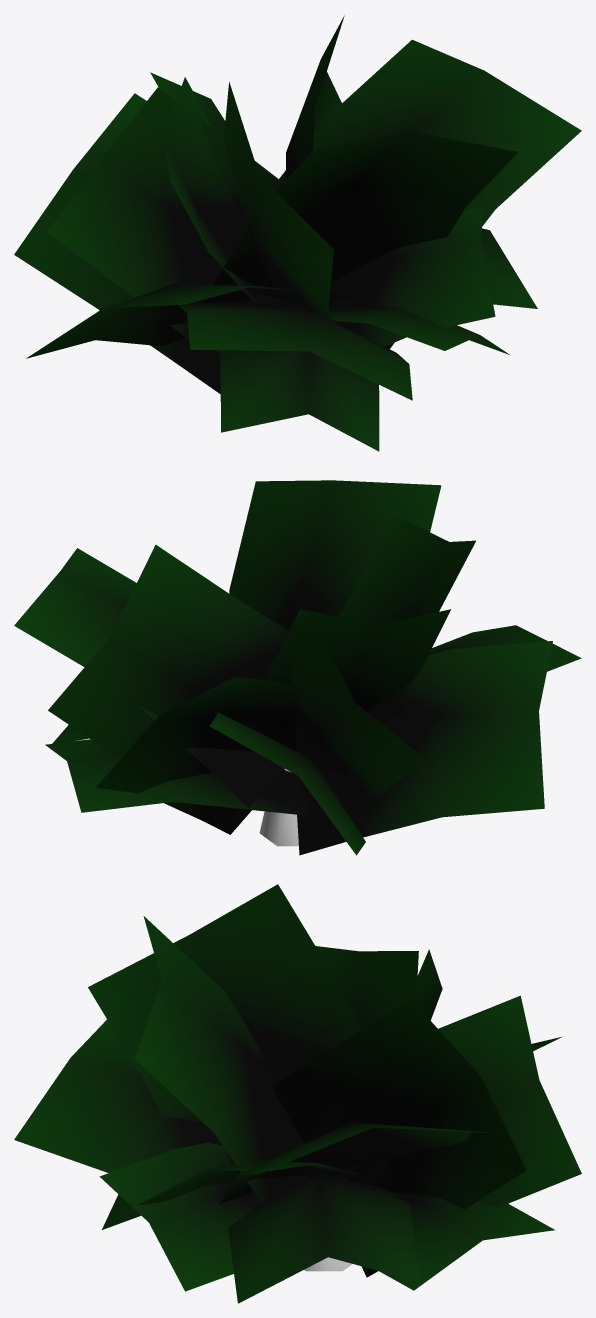
File: DwarfPalmettoPalm02_afsTREE_xlprl15_xef20_xmw06_xlb08_xlod01.fbx
The picture shows the model from 3 angles, top to bottom: view 1: azimuth 30°, elevation 25°; view 2: azimuth 150°, elevation 25°; view 3: azimuth 270°, elevation 25°; orthographic projection. The views are drawn at different scales.
Parts seen in each view (by area): view 1: leaf_xw02_xt01.002, leaf_xw02_xt01_xp02.002, leaf_xw02_xt01_xp01.002, leaf_xw01_xt01.005, leaf_xw01_xt00, leaf_xw01_xt01_xp07.002, leaf_xw02_xt01_xp06.002, leaf_xw00_xt01_xp08.002, leaf_xw01_xt01.004, leaf_xw01_xt01.003, leaf_xw00_xt01_xp09.002, leaf_xw01_xt01_xp10.002 (+2 smaller); view 2: leaf_xw01_xt01.003, leaf_xw01_xt01_xp10.002, leaf_xw02_xt01.002, leaf_xw01_xt00.001, leaf_xw02_xt01_xp01.002, leaf_xw02_xt01_xp02.002, leaf_xw01_xt01.004, leaf_xw02_xt01_xp06.002, leaf_xw01_xt00_xp08.002, leaf_xw00_xt01_xp08.002, leaf_xw01_xt01_xp07.002, trunk_xw00_xt00_xlp00.001; view 3: leaf_xw01_xt01_xp10.002, leaf_xw02_xt01_xp06.002, leaf_xw02_xt01.002, leaf_xw01_xt01_xp04, leaf_xw01_xt01_xp07.002, leaf_xw01_xt00.001, leaf_xw00_xt01_xp09.002, leaf_xw01_xt00_xp08.002, leaf_xw02_xt01_xp01.002, leaf_xw01_xt01.004, leaf_xw01_xt01.005, leaf_xw02_xt01_xp02.002 (+1 smaller).
Boxes of the visible parts, box(x1,y1,x2,y2) form: leaf_xw02_xt01.002: box(203, 131, 518, 303); leaf_xw02_xt01_xp02.002: box(47, 87, 282, 364); leaf_xw02_xt01_xp01.002: box(279, 39, 581, 349); leaf_xw01_xt01.005: box(329, 207, 495, 346); leaf_xw01_xt00: box(218, 350, 379, 451); leaf_xw01_xt01_xp07.002: box(178, 300, 412, 400); leaf_xw02_xt01_xp06.002: box(223, 81, 334, 323); leaf_xw00_xt01_xp08.002: box(14, 93, 220, 393); leaf_xw01_xt01.004: box(162, 77, 280, 304); leaf_xw01_xt01.003: box(26, 284, 366, 358); leaf_xw00_xt01_xp09.002: box(328, 300, 510, 355); leaf_xw01_xt01_xp10.002: box(286, 15, 344, 178); leaf_xw01_xt01.003: box(297, 641, 552, 855); leaf_xw01_xt01_xp10.002: box(48, 544, 288, 828); leaf_xw02_xt01.002: box(229, 480, 441, 722); leaf_xw01_xt00.001: box(96, 676, 300, 834); leaf_xw02_xt01_xp01.002: box(14, 548, 283, 808); leaf_xw02_xt01_xp02.002: box(263, 626, 425, 798); leaf_xw01_xt01.004: box(262, 609, 450, 711); leaf_xw02_xt01_xp06.002: box(245, 514, 475, 737); leaf_xw01_xt00_xp08.002: box(45, 739, 309, 815); leaf_xw00_xt01_xp08.002: box(209, 712, 365, 855); leaf_xw01_xt01_xp07.002: box(315, 625, 581, 788); trunk_xw00_xt00_xlp00.001: box(259, 769, 298, 846); leaf_xw01_xt01_xp10.002: box(271, 999, 526, 1209); leaf_xw02_xt01_xp06.002: box(88, 884, 361, 1122); leaf_xw02_xt01.002: box(135, 916, 310, 1206); leaf_xw01_xt01_xp04: box(228, 1173, 419, 1303); leaf_xw01_xt01_xp07.002: box(14, 1019, 222, 1172); leaf_xw01_xt00.001: box(361, 995, 581, 1277); leaf_xw00_xt01_xp09.002: box(99, 1142, 261, 1291); leaf_xw01_xt00_xp08.002: box(379, 1192, 555, 1290); leaf_xw02_xt01_xp01.002: box(219, 1122, 491, 1203); leaf_xw01_xt01.004: box(315, 946, 418, 1175); leaf_xw01_xt01.005: box(136, 1160, 389, 1205); leaf_xw02_xt01_xp02.002: box(312, 949, 442, 1139).
Size of the model in its own units: 2.12 by 2.01 by 1.31.
